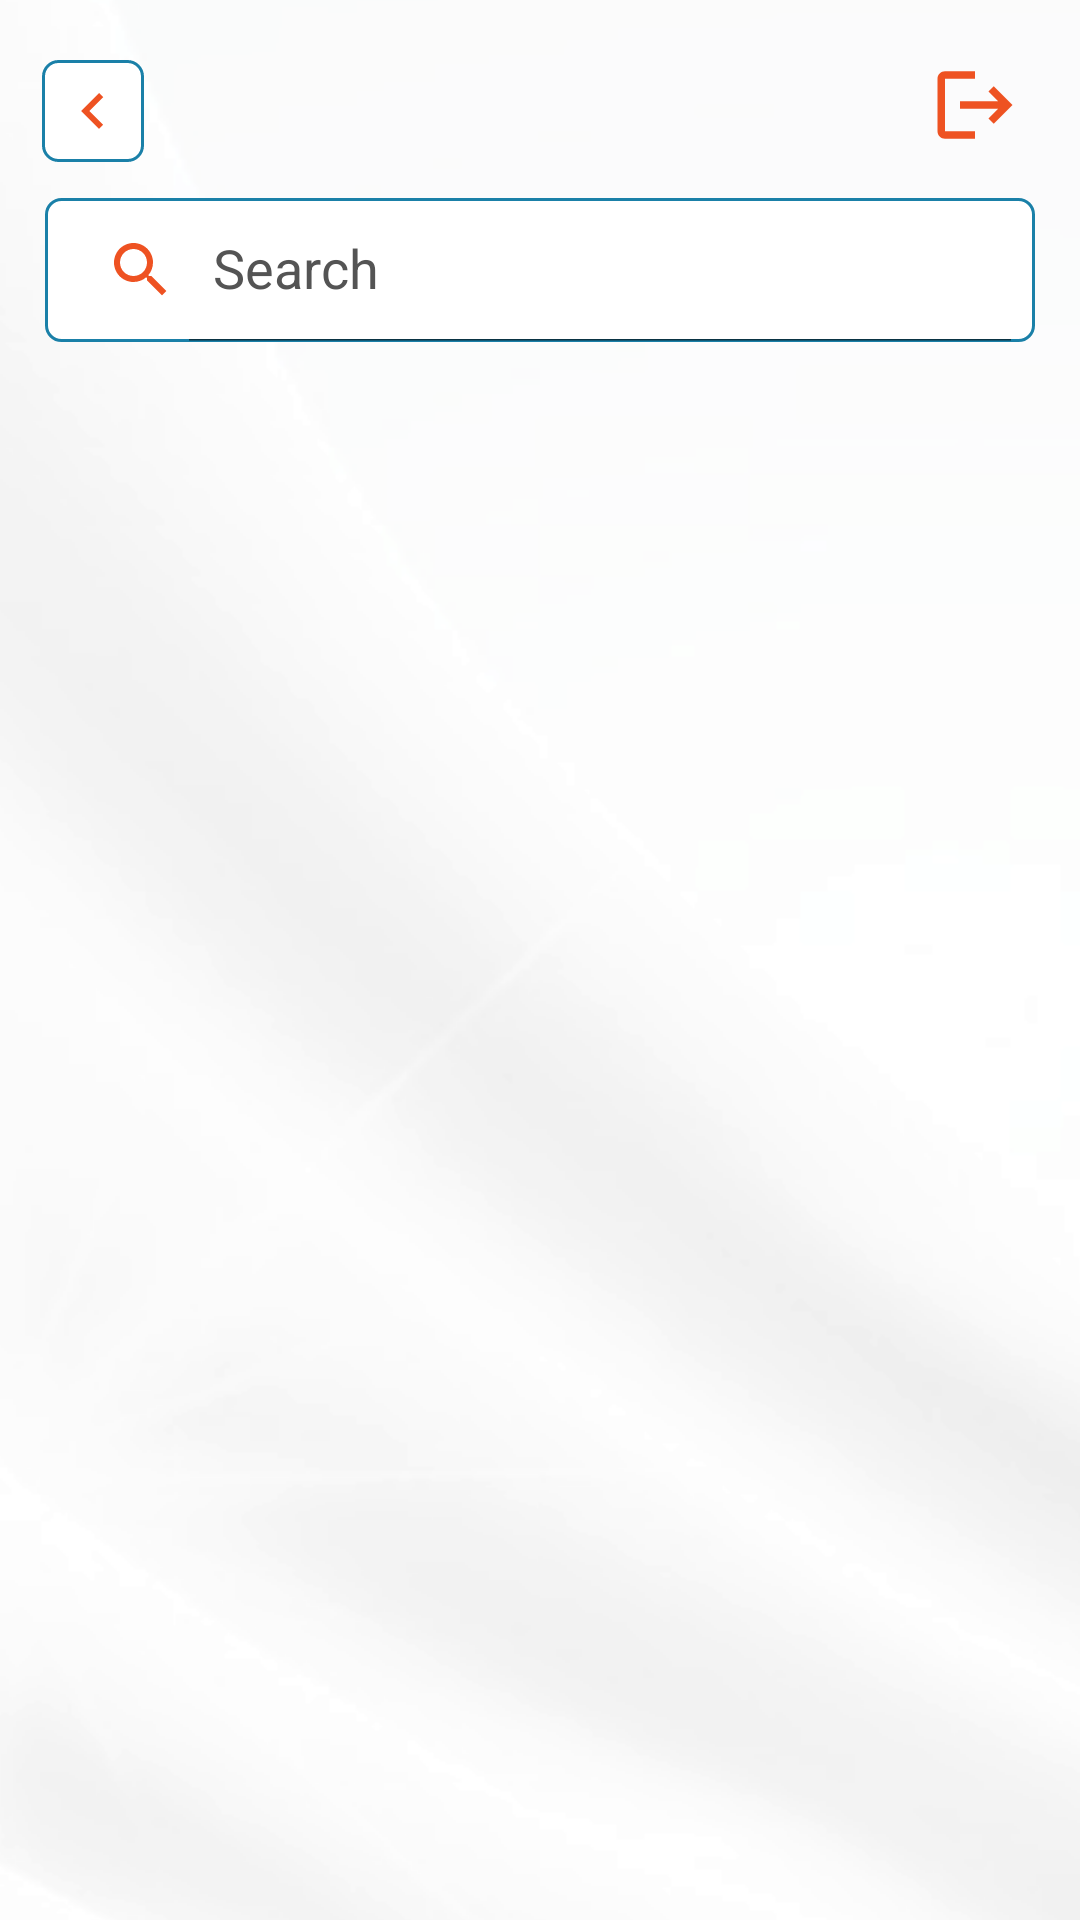

Icons on this 1080x1920 Android screen, each with its box as (x1, y1, x2, y2):
keyboard arrow left: (42, 60, 144, 162)
